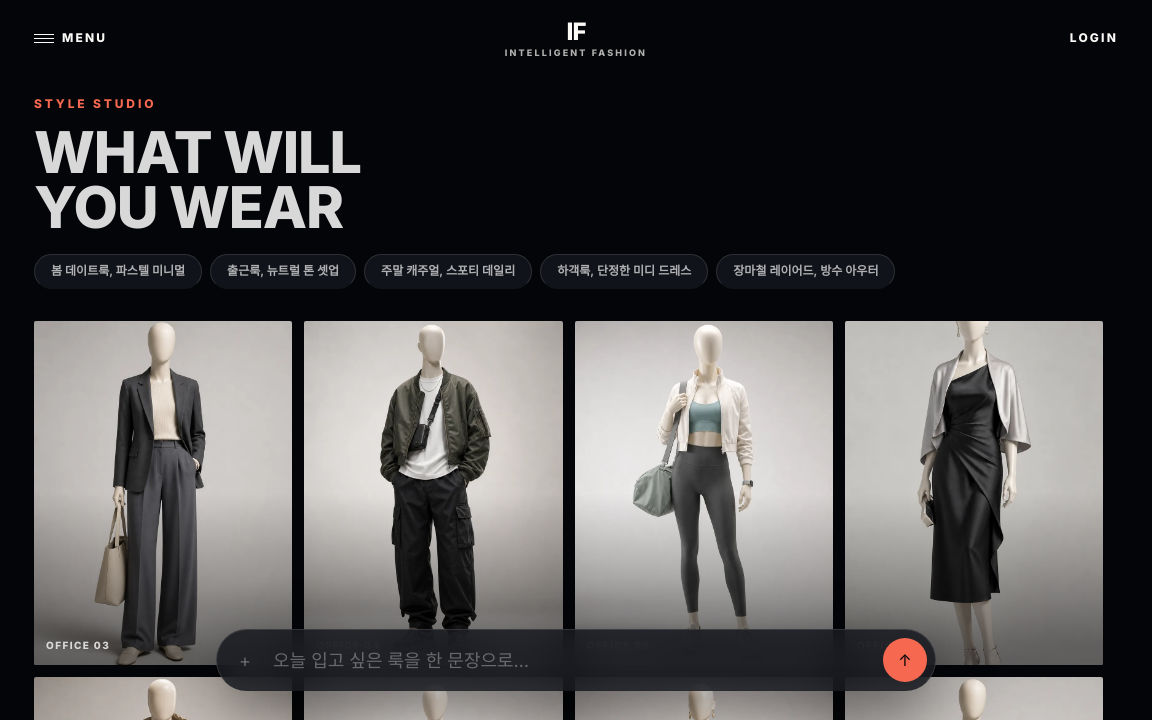
Test: StudioPage (/studio) › Menu → Saved Looks가 저장 화면(gate)을 연다
Click the button with aria-label "메뉴" at (71, 38), box [34,30,107,47]
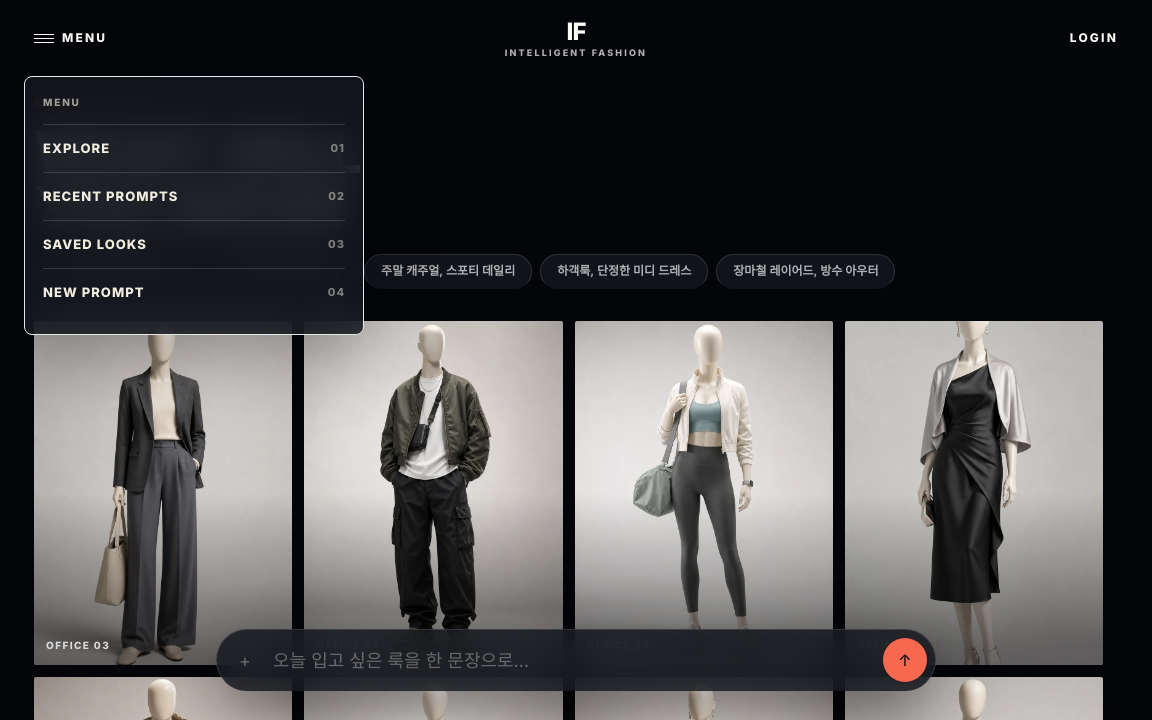
Click the button "Saved Looks 03" at (95, 244), box [43,220,345,268]
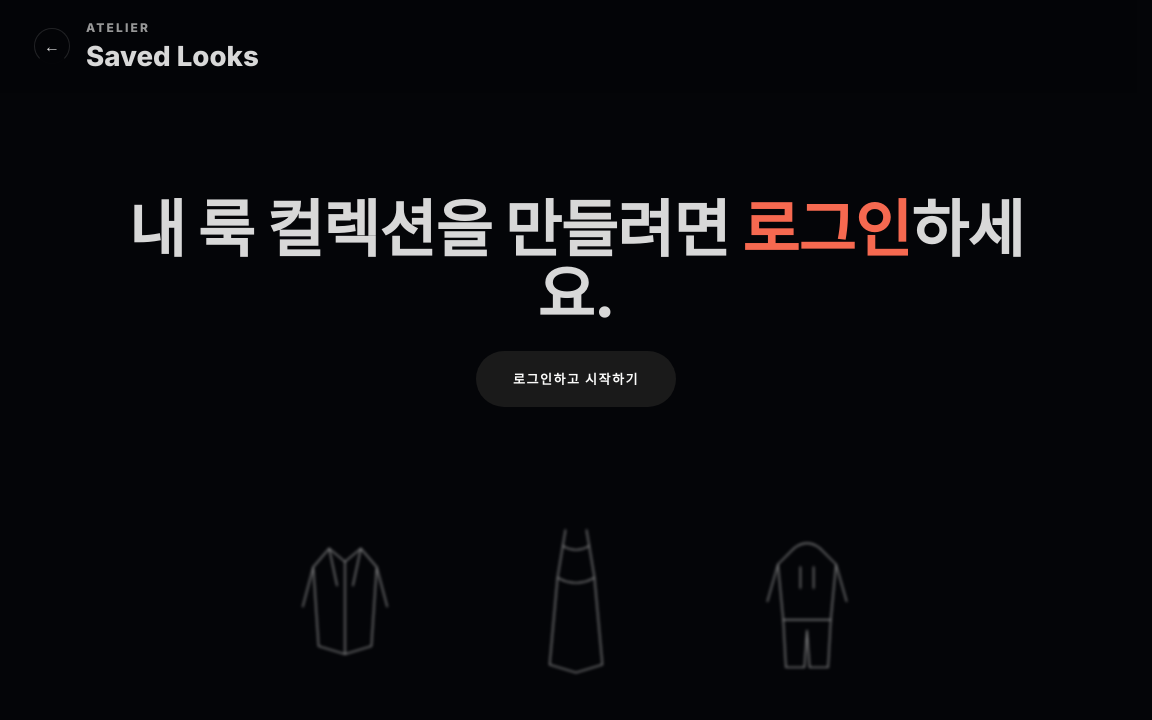
Check: the button "로그인하고 시작하기" is shown, box [476,351,676,407]
